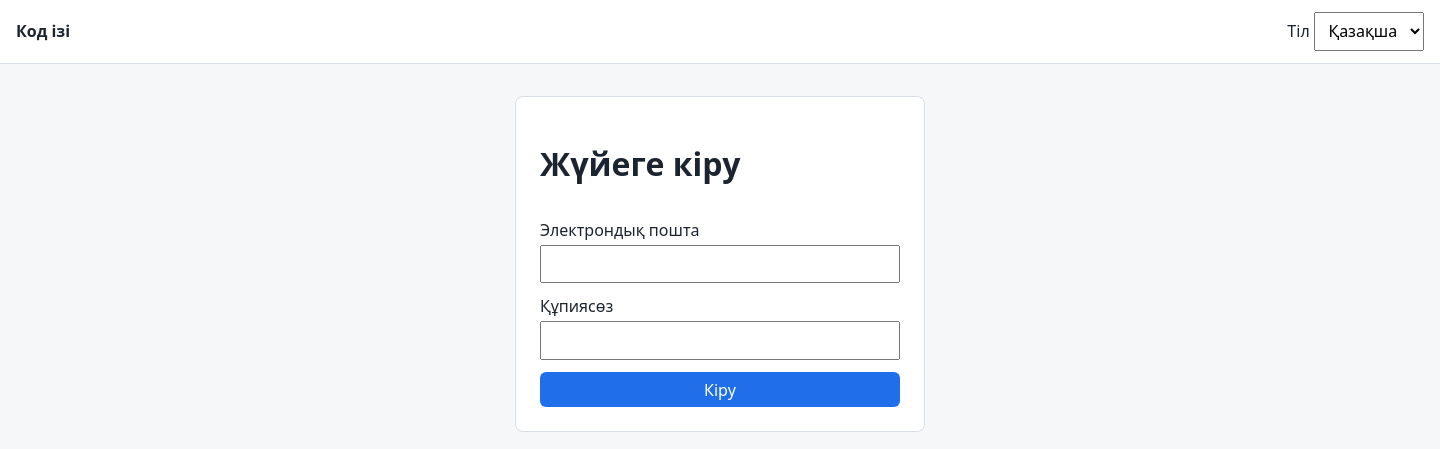
sec14 login page › sec14: successful login opens the student cabinet
The width and height of the screenshot is (1440, 449).
In the field labelled "Электрондық пошта": {"x": 720, "y": 264} [540,245,900,284], type "student@example.com"
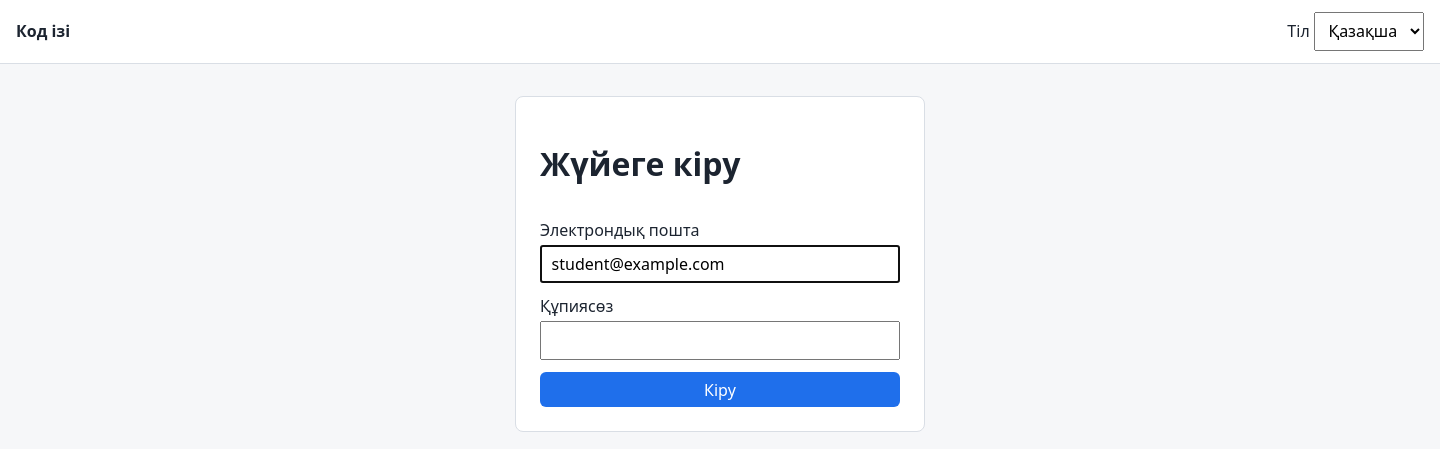
In the password field labelled "Құпиясөз": {"x": 720, "y": 341} [540,321,900,360], type "correct-password"
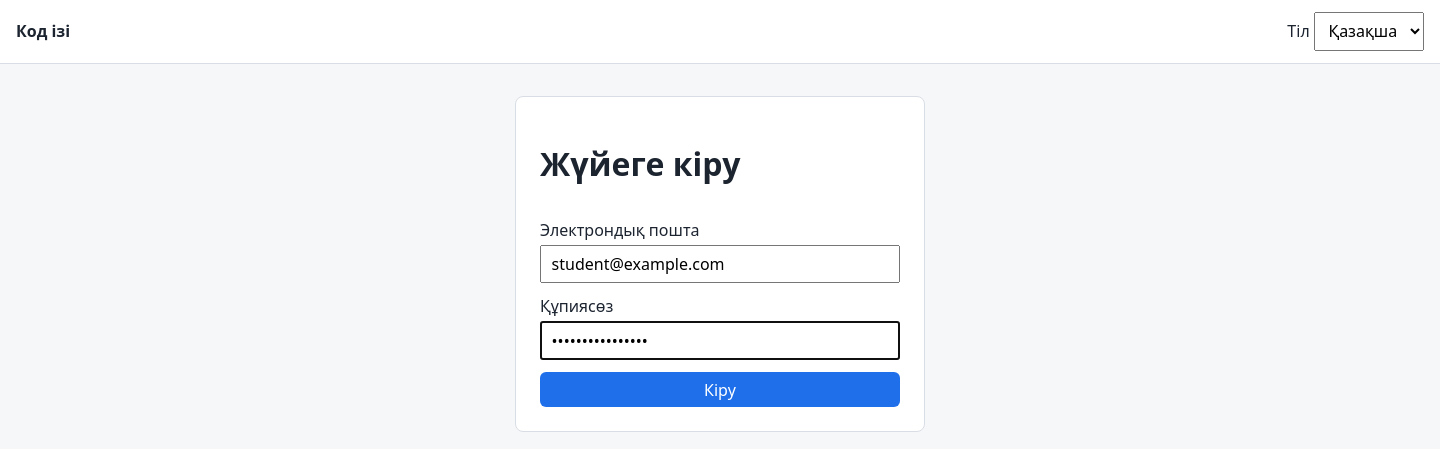
Click the button "Кіру": {"x": 720, "y": 390} [540,372,900,407]
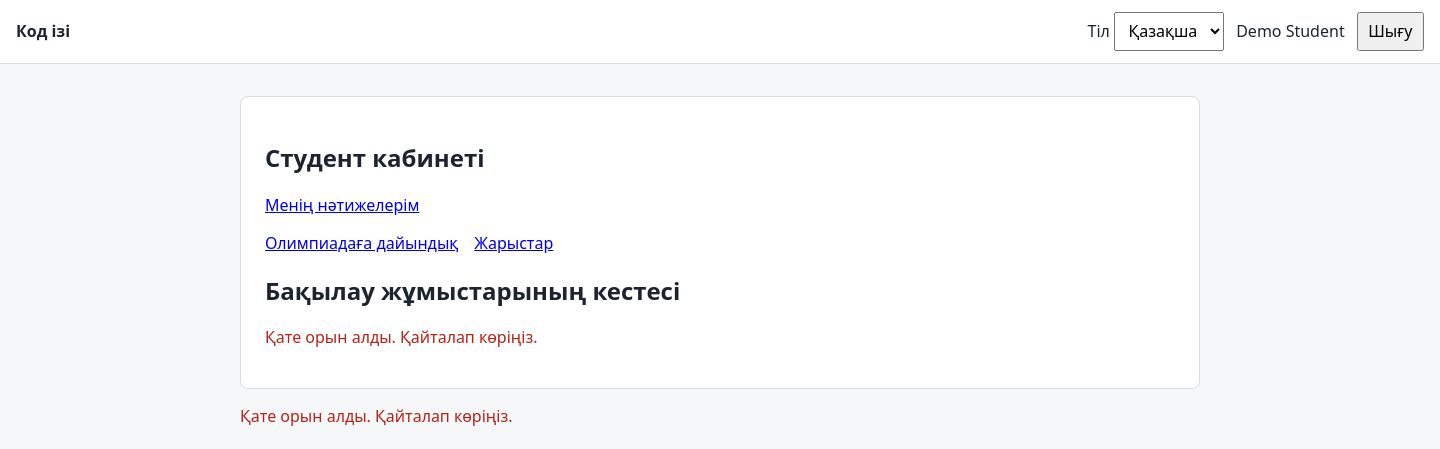
Now the heading "Студент кабинеті" is shown, box [265,141,484,174]
